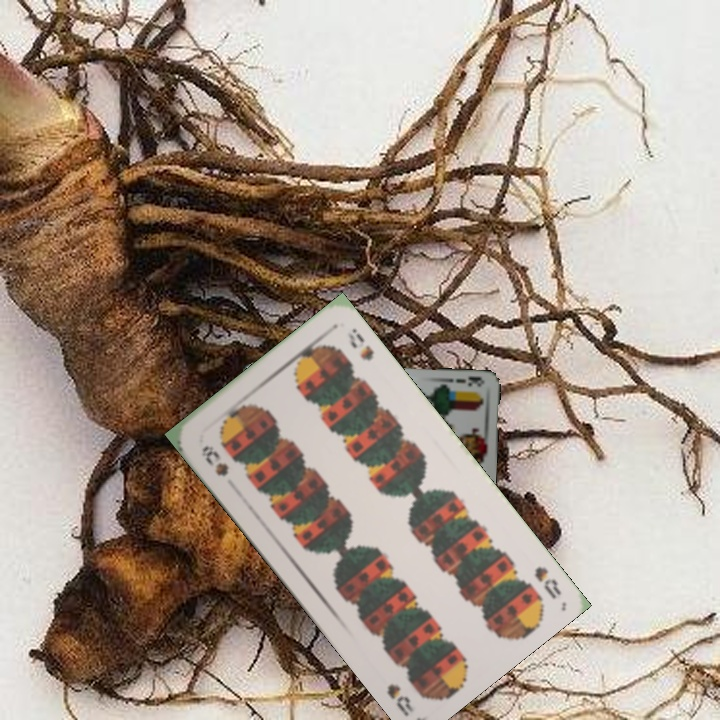EK: (452, 373, 485, 390)
S8: (530, 562, 564, 602), (197, 441, 231, 479)
